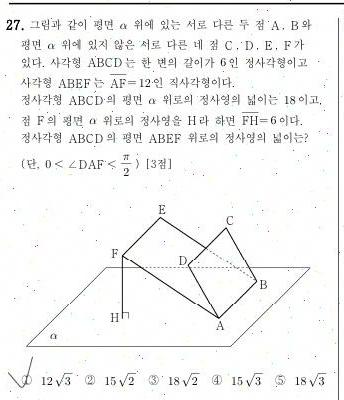choice: (11, 372, 32, 389)
not-choice: (272, 373, 287, 387), (146, 373, 160, 387), (83, 373, 96, 387), (209, 373, 223, 386)
